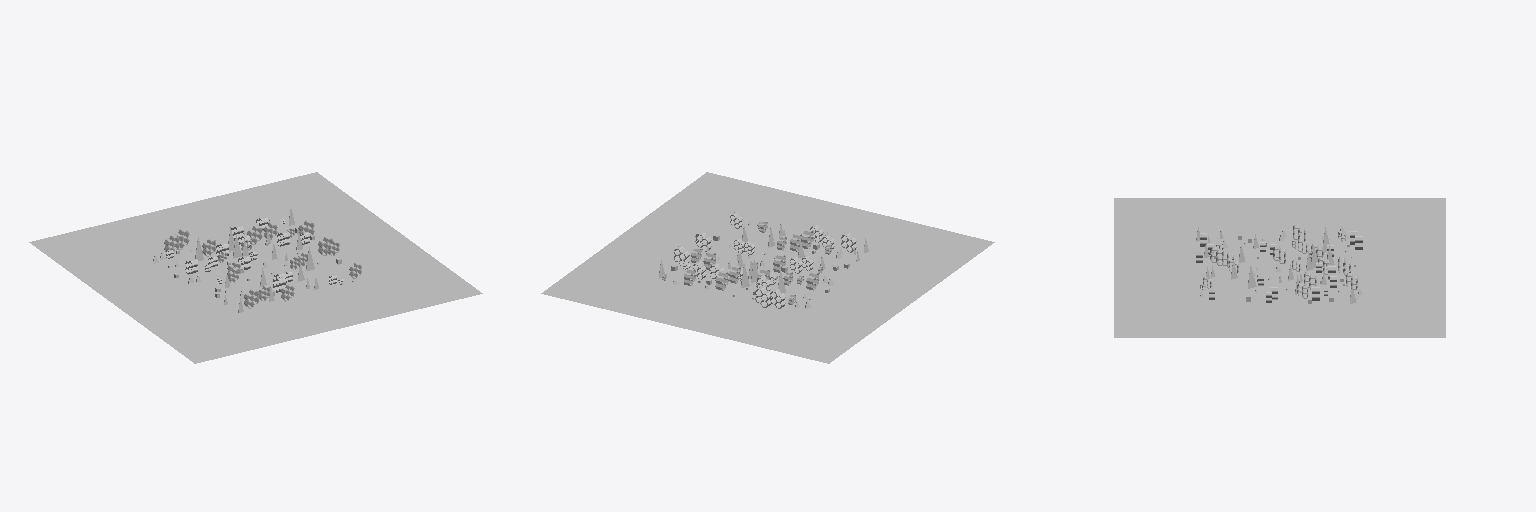
The picture shows the model from 3 angles: view 1: azimuth 30°, elevation 25°; view 2: azimuth 150°, elevation 25°; view 3: azimuth 270°, elevation 25°; orthographic projection.
Parts seen in each view (by area): view 1: Plane; view 2: Plane; view 3: Plane.
Part boxes in pixels (bbox=[...]): Plane: bbox=[29, 172, 482, 363]; Plane: bbox=[541, 172, 994, 363]; Plane: bbox=[1114, 198, 1445, 337].
Bounding box in the file's own units: 80.06 × 6.37 × 80.06.